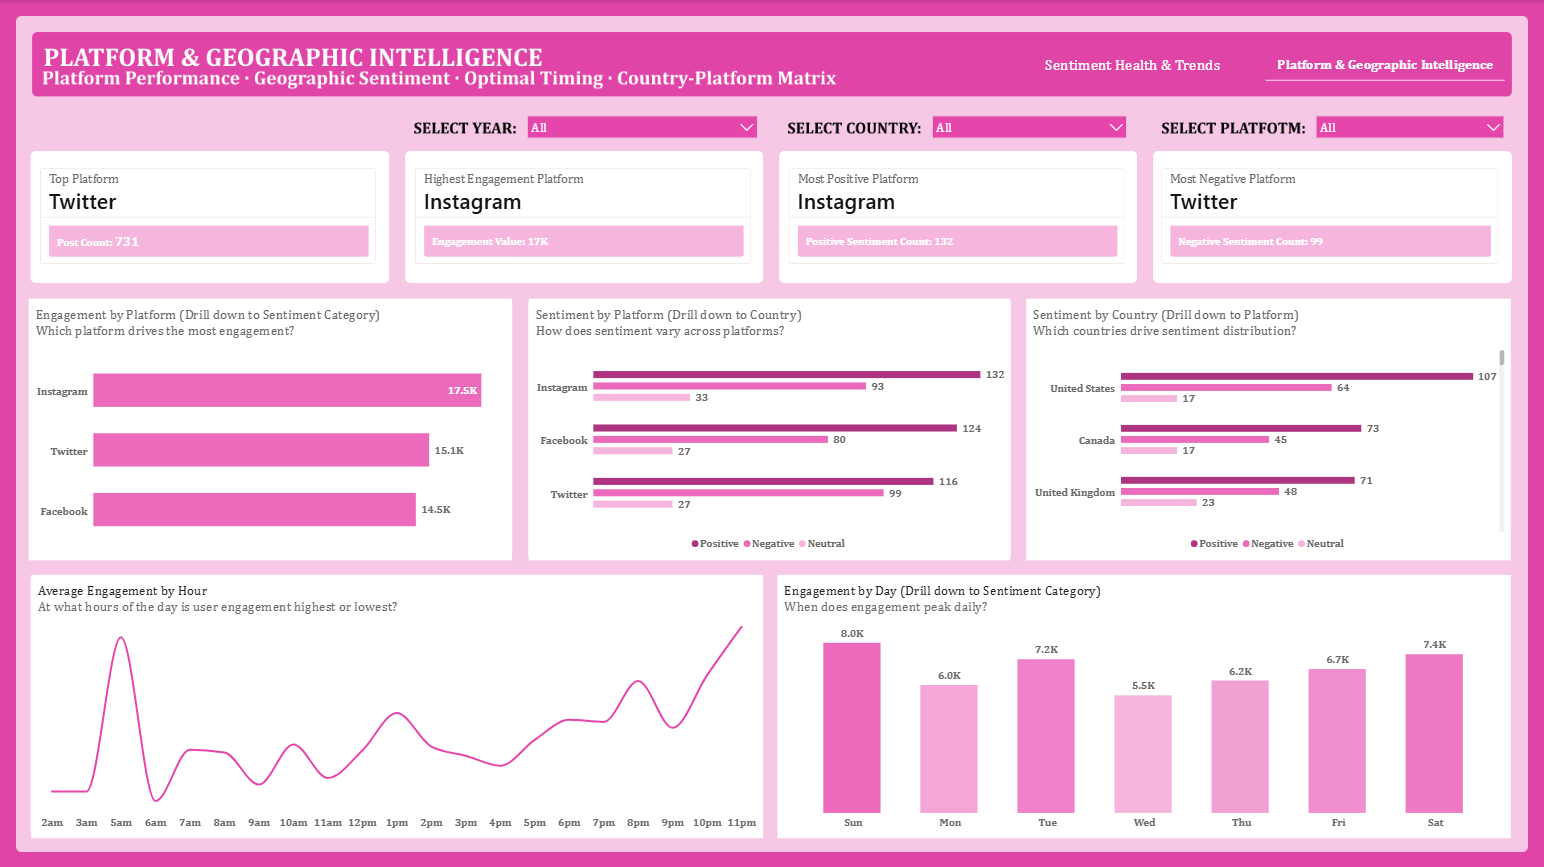

What the dashboard file says about the page in this screenshot:
{"tool":"powerbi","page":{"name":"Platform & Geographic Intelligence","canvas":[2304,1296],"ordinal":1},"visuals":[{"type":"cardVisual","fields":{"Data":["Dax_Measures.Top Platform"]},"box":[43.4,224.2,535.3,197.7],"z":0},{"type":"clusteredBarChart","title":"Engagement by Platform (Drill down to Sentiment Category)","fields":{"Category":["Dim_Platform.Platform","Dim_Sentiment_Type.SentimentCategory"],"Y":["Dax_Measures.Engagement"]},"box":[43.4,446,720.9,390.6],"z":1000},{"type":"lineChart","title":"Average Engagement by Hour","fields":{"Category":["Fact_Sentiment.Hour_Label"],"Y":["Dax_Measures.Average Engagement"]},"box":[45.8,858.3,1092.2,393],"z":2000},{"type":"clusteredColumnChart","title":"Engagement by Day (Drill down to Sentiment Category)","fields":{"Y":["Dax_Measures.Engagement"],"Category":["DateTable.Day","Dim_Sentiment_Type.SentimentCategory"]},"box":[1159.7,858.3,1094.6,393],"z":3000},{"type":"clusteredBarChart","title":"Sentiment by Platform (Drill down to Country)","fields":{"Y":["Dax_Measures.Positive Posts","Dax_Measures.Negative Posts","Dax_Measures.Neutral Posts"],"Category":["Dim_Platform.Platform","Dim_Location.Country"]},"box":[788.4,446,718.5,390.6],"z":4000},{"type":"clusteredBarChart","title":"Sentiment by Country (Drill down to Platform)","fields":{"Y":["Dax_Measures.Positive Posts","Dax_Measures.Negative Posts","Dax_Measures.Neutral Posts"],"Category":["Dim_Location.Country","Dim_Platform.Platform"]},"box":[1531,446,723.3,390.6],"z":5000},{"type":"cardVisual","fields":{"Data":["Dax_Measures.Highest Engagement Platform"]},"box":[602.8,224.2,535.3,197.7],"z":6000},{"type":"cardVisual","fields":{"Data":["Dax_Measures.Most Positive Platform"]},"box":[1159.7,224.2,535.3,197.7],"z":7000},{"type":"cardVisual","fields":{"Data":["Dax_Measures.Most Negative Platform"]},"box":[1716.7,224.2,537.7,197.7],"z":8000},{"type":"slicer","fields":{"Values":["Dim_Platform.Platform"]},"box":[1943.3,161.5,311,62.7],"z":9000},{"type":"slicer","fields":{"Values":["Dim_Location.Country"]},"box":[1371.9,161.5,320.7,62.7],"z":10000},{"type":"slicer","fields":{"Values":["DateTable.Year","DateTable.Month"]},"box":[766.7,161.5,373.7,62.7],"z":11000},{"type":"pageNavigator","box":[1501.6,70.9,755.4,50.4],"z":12000}]}

Visuals, with their boxes in screenshot pixels (x1, y1, x2, y2), scaled from the page's 2304x1296 canvas onto the 1544x867 screenshot:
cardVisual - Dax_Measures.Top Platform: detection(29, 150, 388, 282)
"Engagement by Platform (Drill down to Sentiment Category)" clusteredBarChart: detection(29, 298, 512, 560)
"Average Engagement by Hour" lineChart: detection(31, 574, 763, 837)
"Engagement by Day (Drill down to Sentiment Category)" clusteredColumnChart: detection(777, 574, 1511, 837)
"Sentiment by Platform (Drill down to Country)" clusteredBarChart: detection(528, 298, 1010, 560)
"Sentiment by Country (Drill down to Platform)" clusteredBarChart: detection(1026, 298, 1511, 560)
cardVisual - Dax_Measures.Highest Engagement Platform: detection(404, 150, 763, 282)
cardVisual - Dax_Measures.Most Positive Platform: detection(777, 150, 1136, 282)
cardVisual - Dax_Measures.Most Negative Platform: detection(1150, 150, 1511, 282)
slicer - Dim_Platform.Platform: detection(1302, 108, 1511, 150)
slicer - Dim_Location.Country: detection(919, 108, 1134, 150)
slicer - DateTable.Year x DateTable.Month: detection(514, 108, 764, 150)
pageNavigator: detection(1006, 47, 1513, 81)
